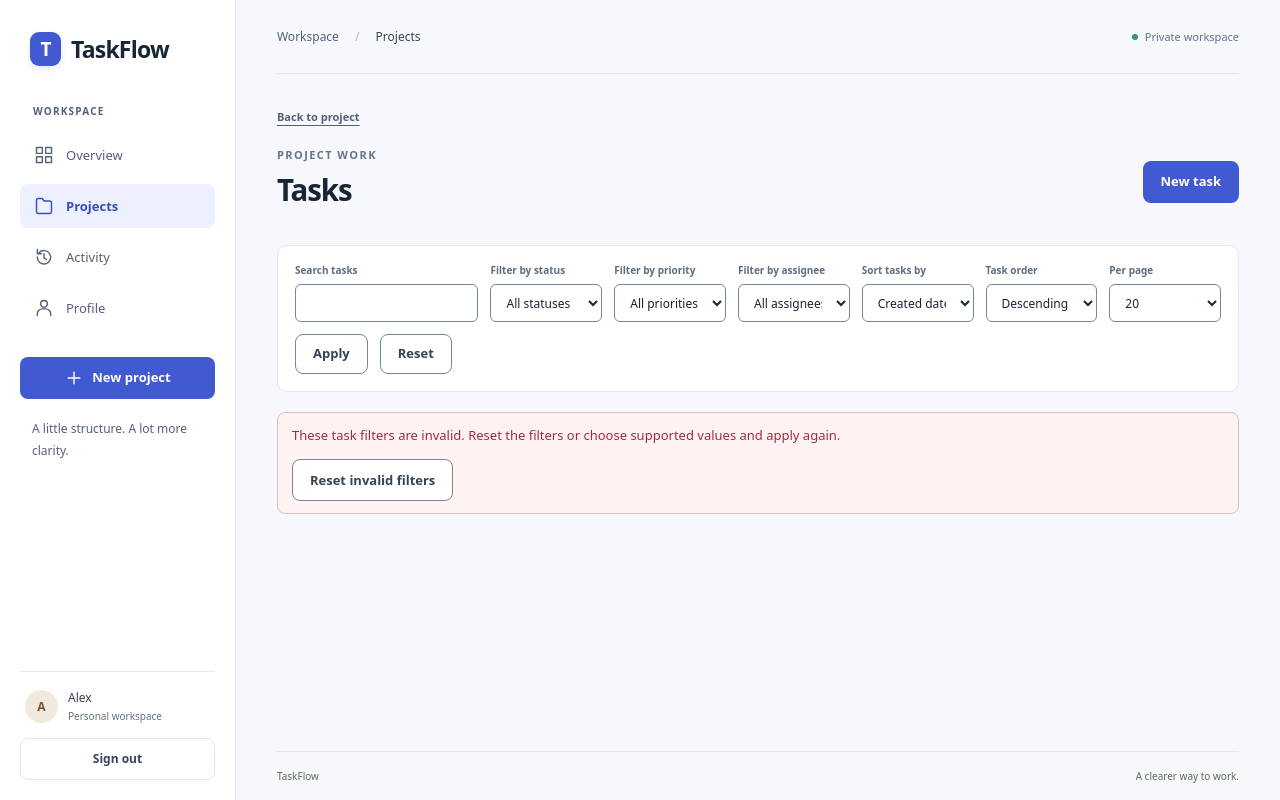
Test: Task pages › recovers invalid query URLs with a reset instead of reporting an invalid task link
Expected: the message shows "These task filters are invalid", [292,426,840,444]
Click the button "Reset invalid filters" at {"x": 373, "y": 480}, box [292,459,453,501]
(page scrolled)
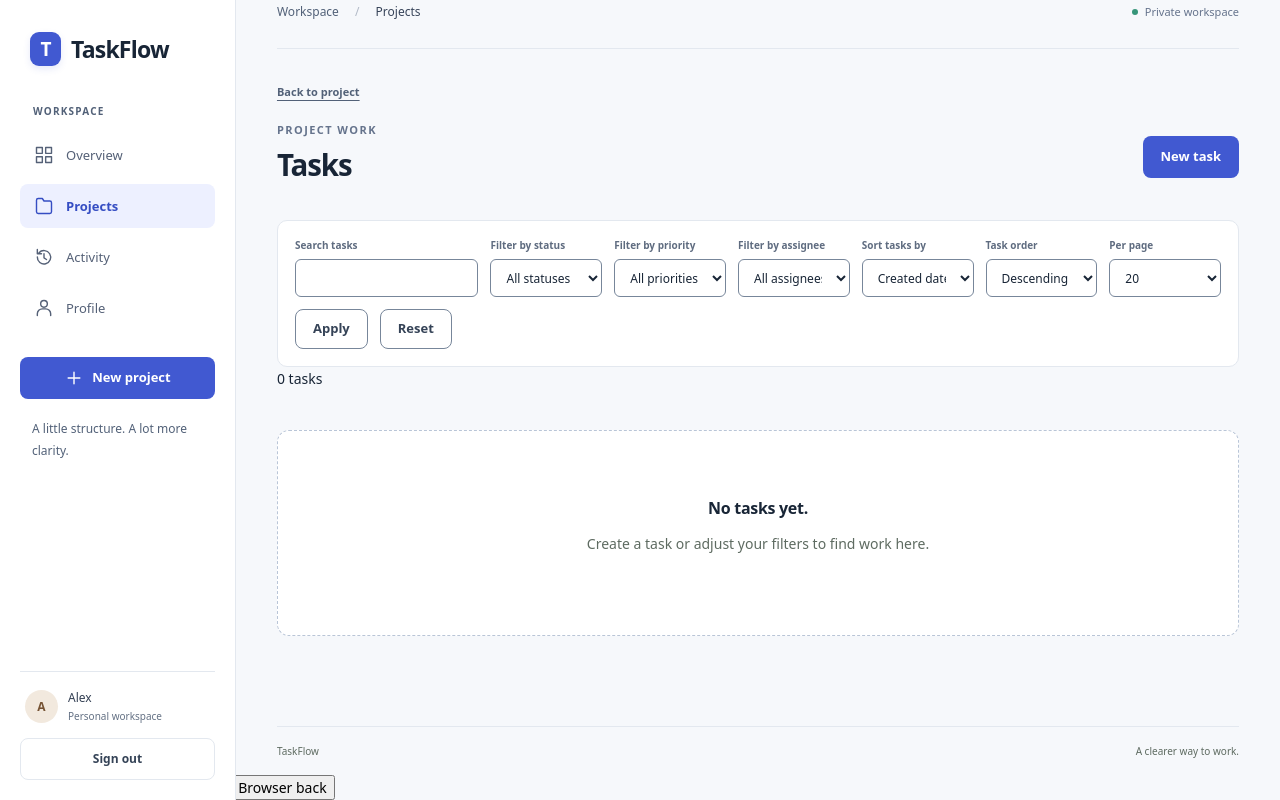
Expected: the heading "No tasks yet." is shown, [708,497,808,519]
